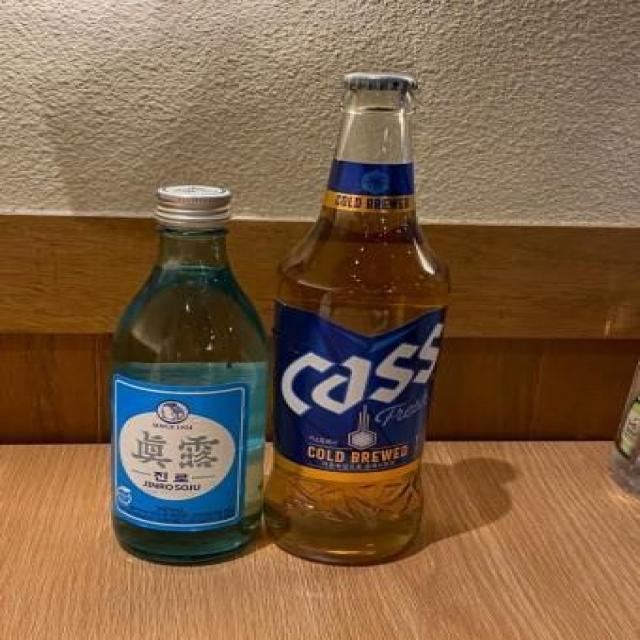beer-bottle: (256, 69, 454, 569)
soju-bottle: (103, 182, 284, 565)
